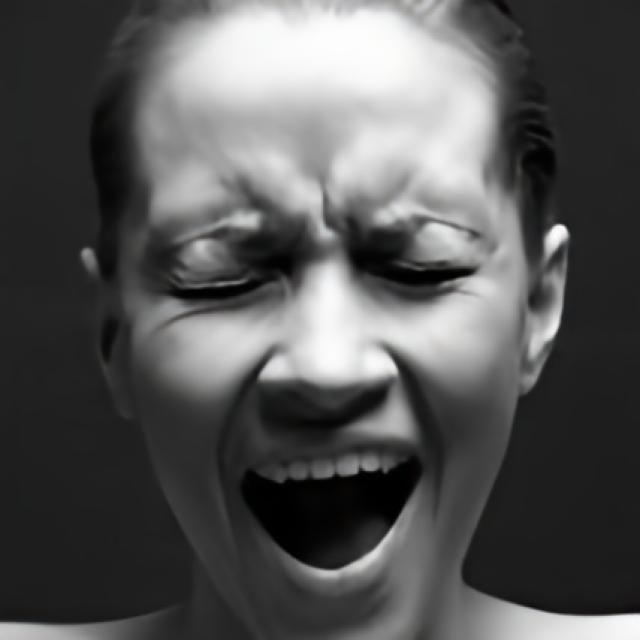fear: (118, 2, 524, 640)
